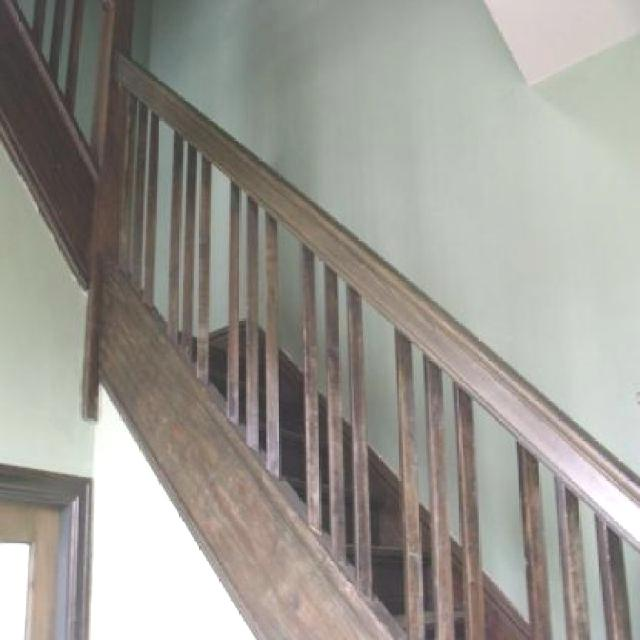stair: (158, 316, 546, 640)
